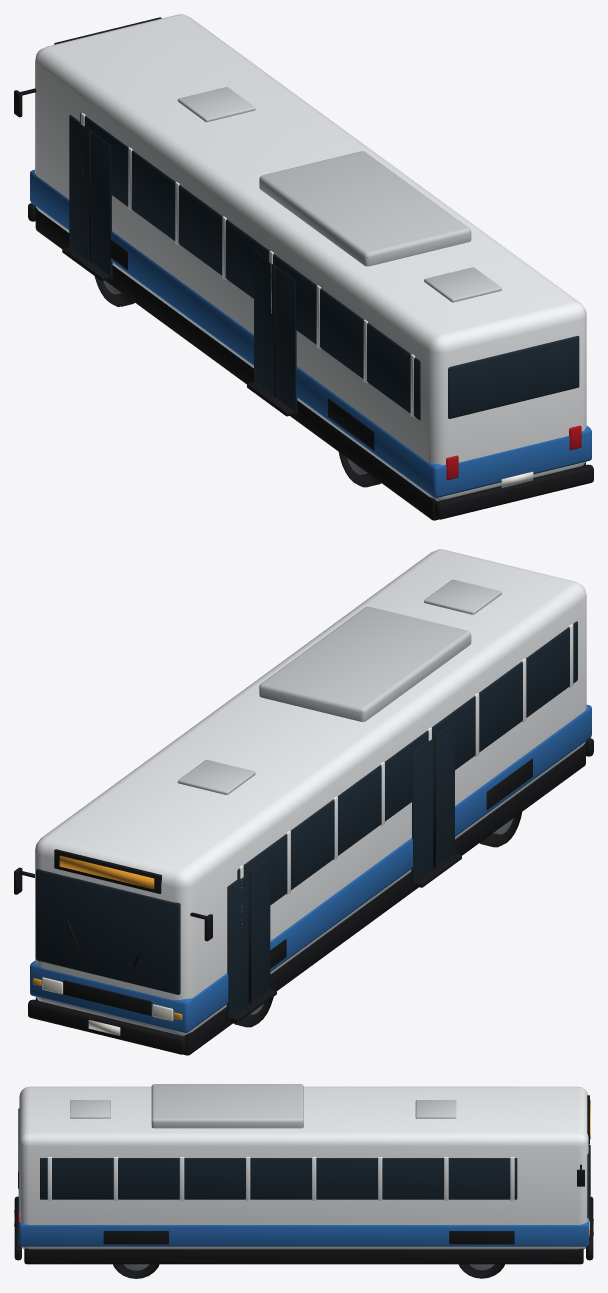
The model's file is bus.glb.
3 renders of one model, top to bottom at view 1: azimuth 30°, elevation 25°; view 2: azimuth 150°, elevation 25°; view 3: azimuth 270°, elevation 25°, orthographic. The views are drawn at different scales.
Parts seen in each view (by area): view 1: bus_body, bus_windows, bus_ac, bus_band, bus_rear_window, bus_skirt, bus_door_f, bus_door_r, bus_bumper_b, bus_hatch_a, bus_hatch_b, bus_arch_rl; view 2: bus_body, bus_windows, bus_ac, bus_windscreen, bus_band, bus_skirt, bus_door_f, bus_door_r, bus_bumper_f, bus_hatch_b, bus_hatch_a, bus_grille (+3 smaller); view 3: bus_body, bus_windows, bus_band, bus_skirt, bus_ac, bus_arch_fr, bus_arch_rr, bus_hatch_a, bus_hatch_b, bus_wheel_rr_tyre, bus_wheel_fr_tyre, bus_bumper_b (+1 smaller).
Boxes of the visible parts, x1,y1,x2,y2 form: bus_body: [35, 14, 586, 501]; bus_windows: [80, 113, 420, 420]; bus_ac: [259, 151, 471, 266]; bus_band: [30, 169, 591, 497]; bus_rear_window: [448, 336, 579, 418]; bus_skirt: [35, 208, 585, 520]; bus_door_f: [69, 115, 112, 279]; bus_door_r: [254, 250, 297, 414]; bus_bumper_b: [435, 464, 593, 519]; bus_hatch_a: [177, 87, 255, 122]; bus_hatch_b: [424, 267, 501, 302]; bus_arch_rl: [328, 398, 374, 449]; bus_body: [35, 549, 586, 1036]; bus_windows: [237, 621, 577, 905]; bus_ac: [259, 606, 471, 721]; bus_windscreen: [36, 868, 180, 994]; bus_band: [30, 704, 591, 1032]; bus_skirt: [35, 743, 585, 1055]; bus_door_f: [226, 857, 270, 1021]; bus_door_r: [411, 722, 454, 886]; bus_bumper_f: [28, 999, 186, 1054]; bus_hatch_b: [424, 579, 501, 614]; bus_hatch_a: [177, 760, 255, 794]; bus_grille: [63, 980, 151, 1015]; bus_body: [19, 1086, 588, 1249]; bus_windows: [40, 1158, 517, 1199]; bus_band: [18, 1188, 589, 1246]; bus_skirt: [24, 1248, 583, 1264]; bus_ac: [151, 1084, 303, 1128]; bus_arch_fr: [449, 1231, 514, 1244]; bus_arch_rr: [103, 1231, 168, 1244]; bus_hatch_a: [415, 1100, 456, 1118]; bus_hatch_b: [70, 1100, 110, 1118]; bus_wheel_rr_tyre: [113, 1264, 159, 1278]; bus_wheel_fr_tyre: [458, 1264, 504, 1278]; bus_bumper_b: [14, 1196, 21, 1260].
Size of the model in its own units: 3.1 by 3.32 by 11.41.
